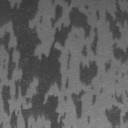red iron: (0, 0, 98, 128), (96, 0, 128, 72), (106, 90, 128, 128), (64, 90, 84, 120), (80, 60, 98, 85), (92, 88, 103, 105), (0, 120, 4, 128), (87, 116, 90, 124), (116, 70, 119, 76)
